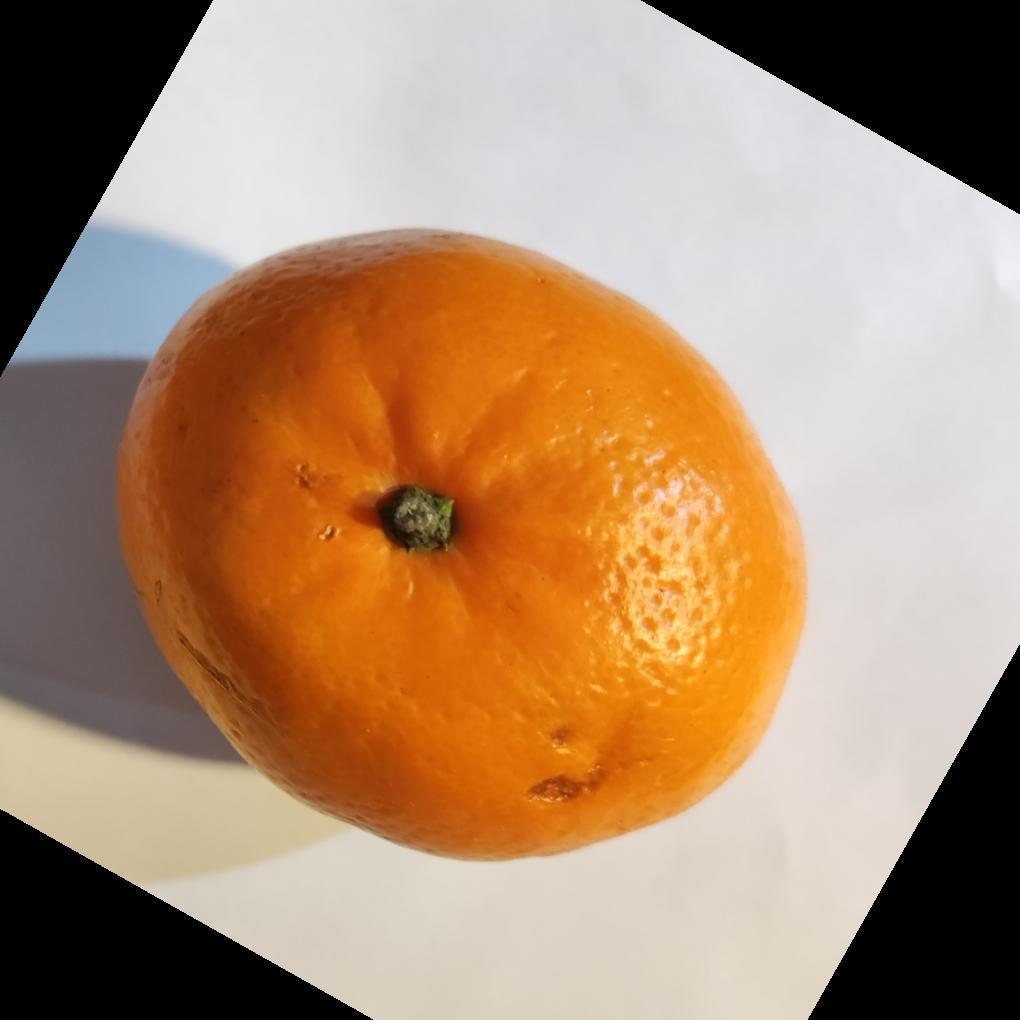FreshGuava: (115, 229, 810, 868)
